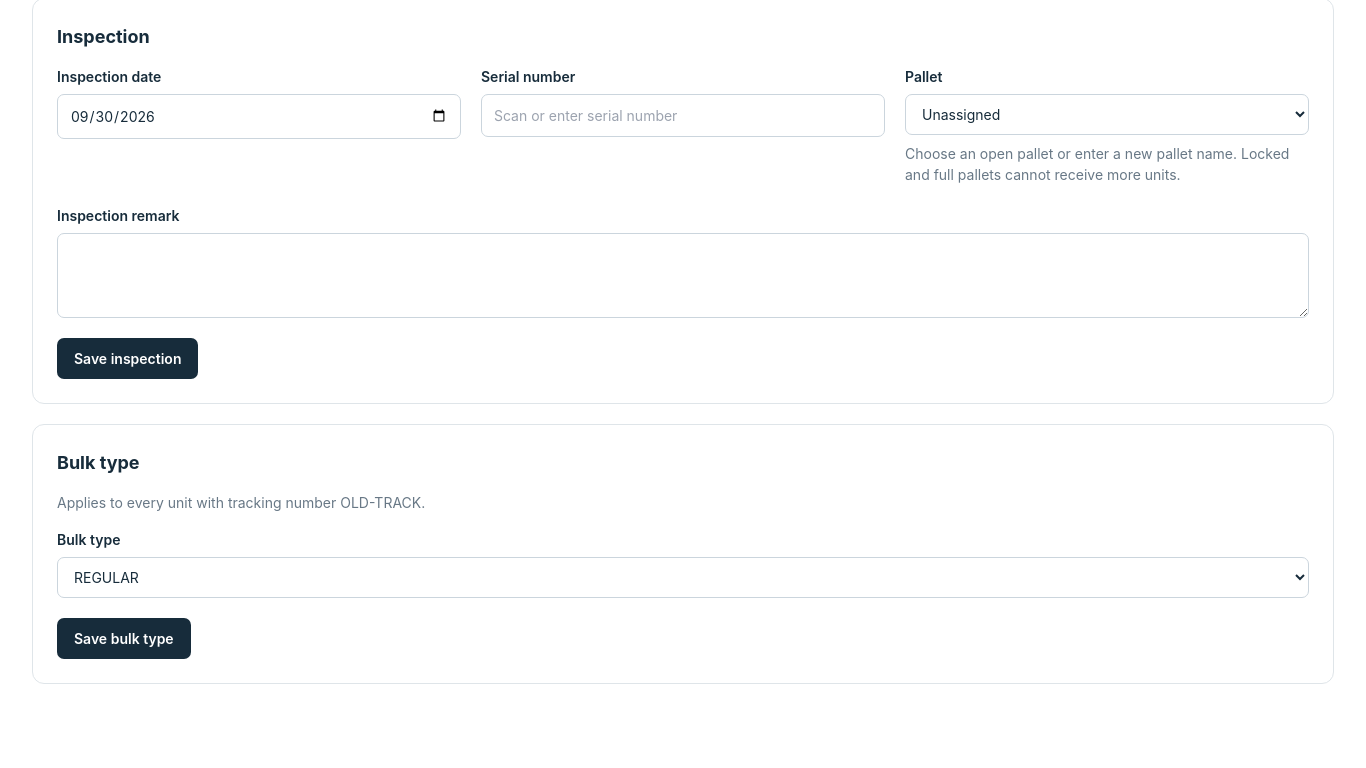
Test case: bulk classification has only two choices and saves for existing units
(page scrolled)
Select "BULK_NEW" in the dropdown labelled "Bulk type" at (683, 577), box [57, 556, 1309, 598]
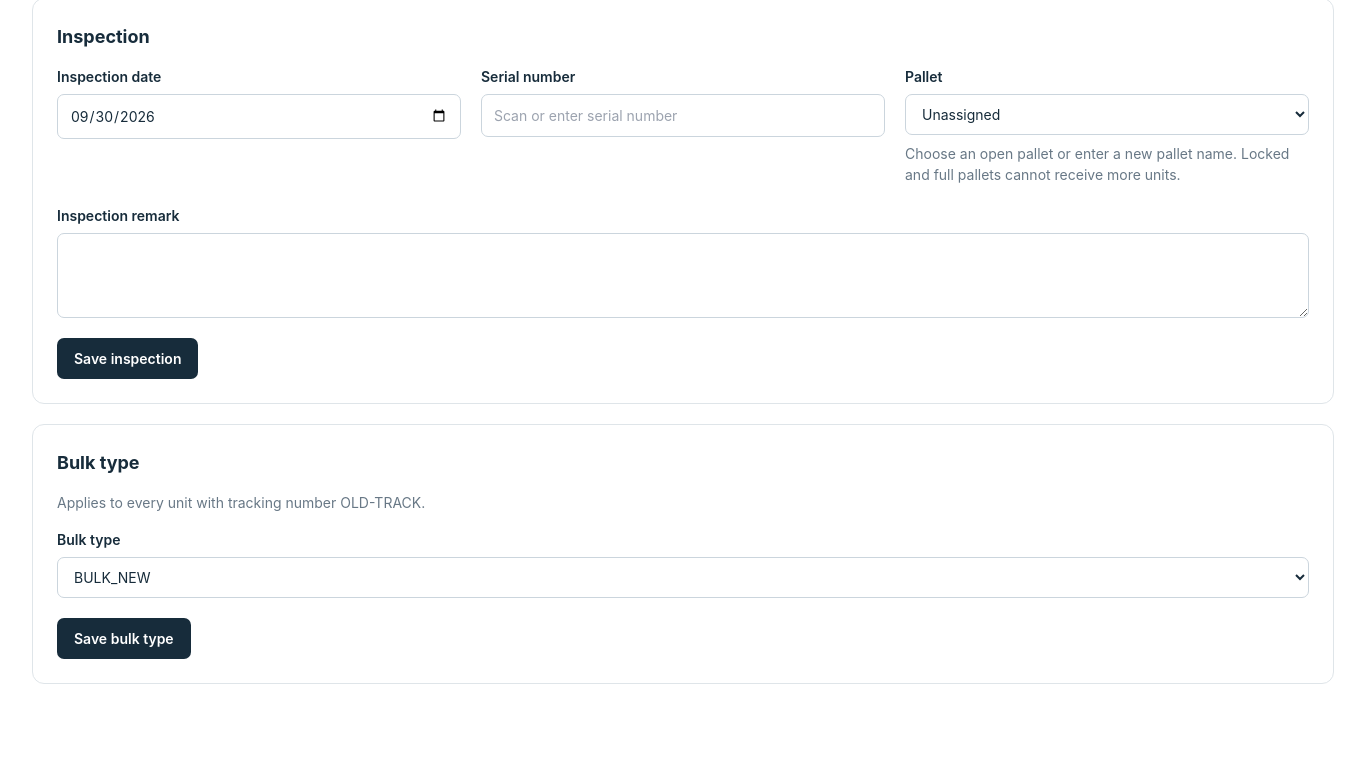
Click the button "Save bulk type" at (124, 638), box [57, 618, 191, 658]
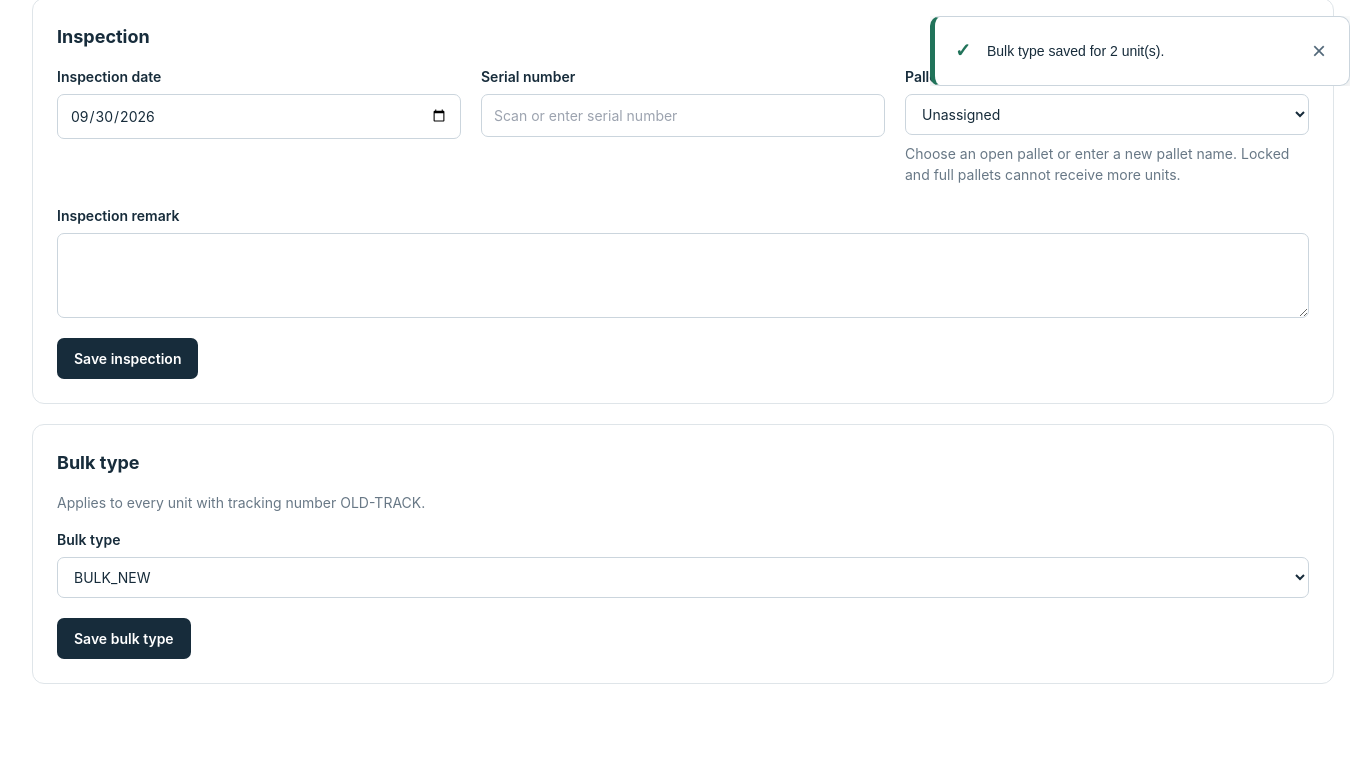
Expected: the text "Bulk type saved for 2 unit(s)." is shown, [987, 42, 1164, 58]
